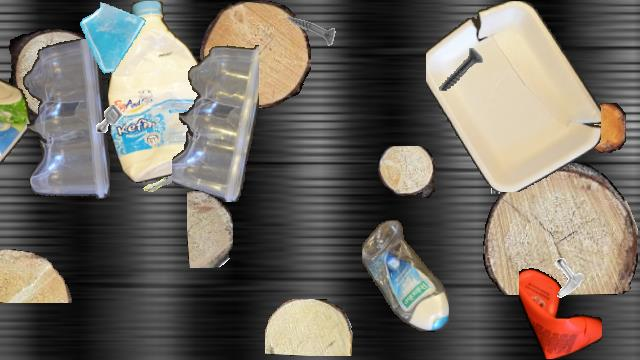glass: (76, 1, 150, 75)
metal: (429, 39, 491, 101), (126, 152, 184, 210), (278, 1, 336, 59), (483, 147, 529, 193), (543, 256, 587, 300), (88, 98, 130, 140)
plastic: (426, 1, 600, 191), (108, 1, 210, 183), (20, 39, 110, 203), (172, 41, 258, 201), (362, 220, 448, 332), (519, 265, 601, 359), (0, 70, 30, 176)
wood: (483, 163, 637, 295), (200, 1, 310, 109), (6, 29, 102, 119), (466, 93, 558, 169), (265, 299, 353, 355), (0, 249, 75, 303), (187, 190, 233, 268), (378, 146, 434, 198), (583, 103, 625, 153)
